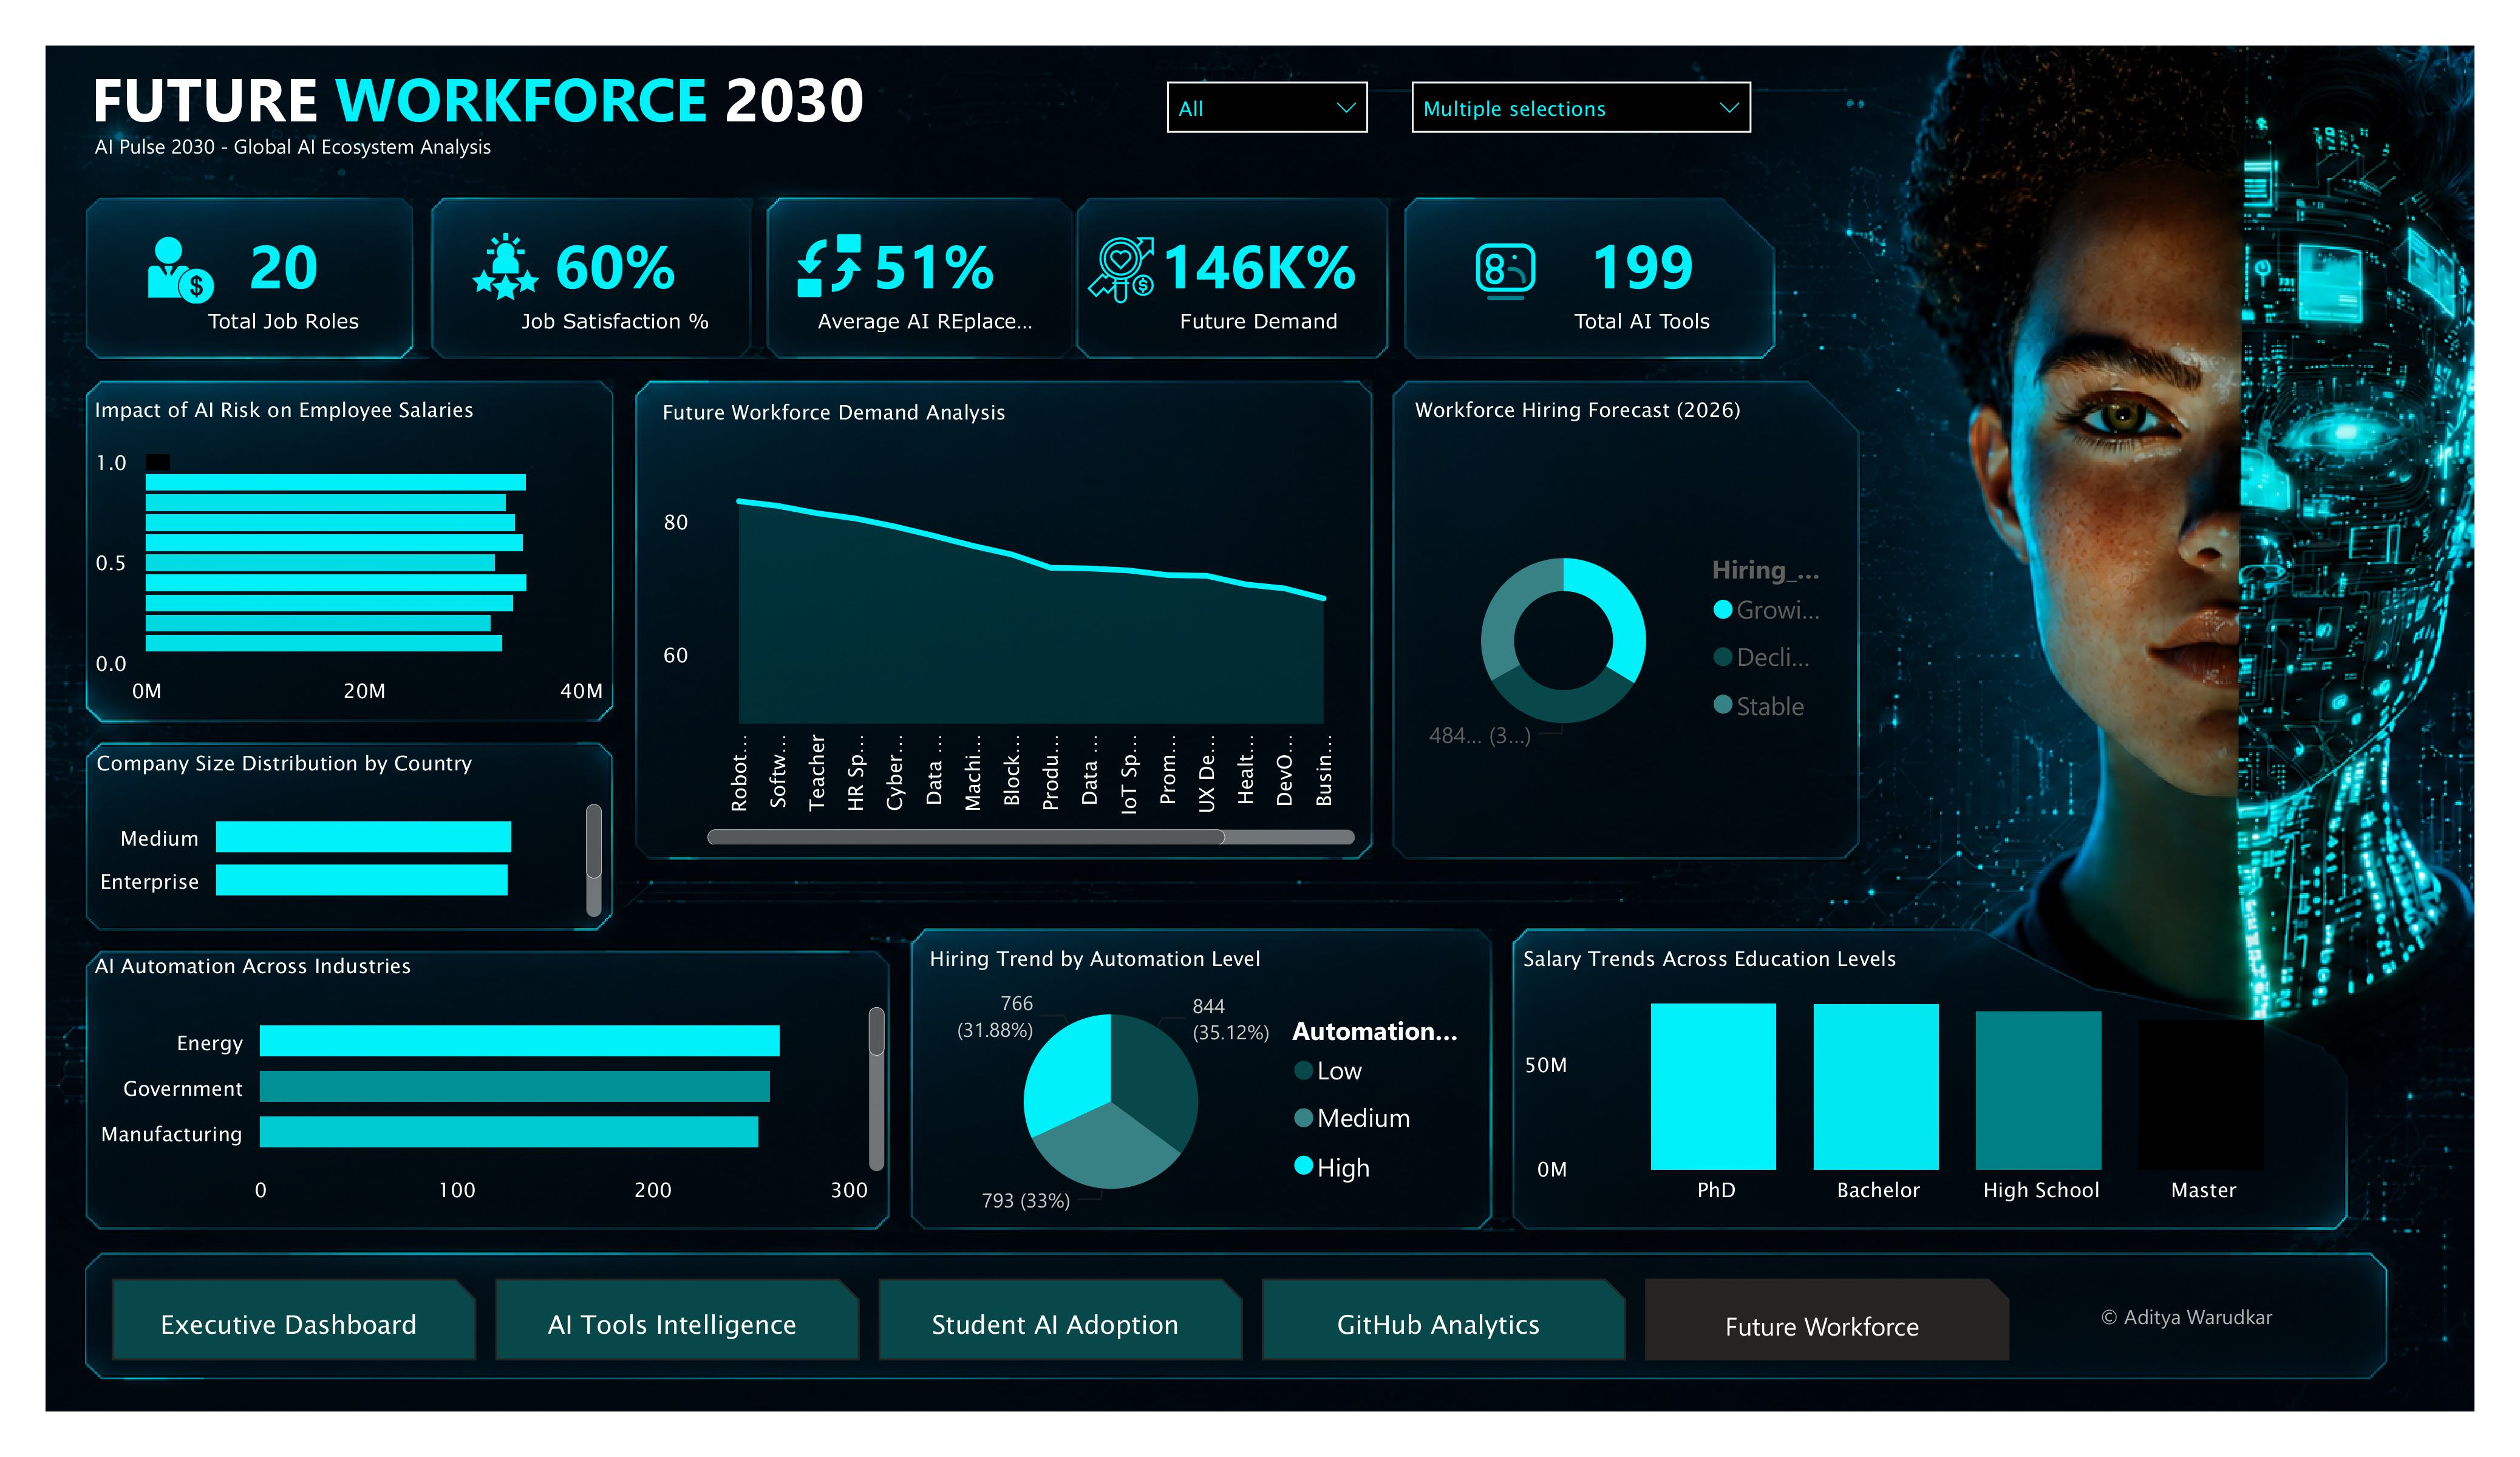

This screenshot's page, from the dashboard's own definition file:
{"tool":"powerbi","page":{"name":"Future Workforce","canvas":[1280,720],"ordinal":3},"visuals":[{"type":"textbox","box":[19,0,560,67],"z":0},{"type":"textbox","box":[20.7,38.2,558.3,28.6],"z":1000},{"type":"cardVisual","fields":{"Data":["JOB CLEANED DATA.Total Job Roles"]},"box":[58.9,77.9,133.6,89.1],"z":2000},{"type":"cardVisual","fields":{"Data":["JOB CLEANED DATA.Average Job Satisfaction"]},"box":[233.8,77.9,133.6,89.1],"z":3000},{"type":"cardVisual","fields":{"Data":["JOB CLEANED DATA.Average AI REplacement"]},"box":[402.4,77.9,133.6,89.1],"z":4000},{"type":"cardVisual","fields":{"Data":["JOB CLEANED DATA.Future Demand"]},"box":[572.6,77.9,133.6,89.1],"z":5000},{"type":"cardVisual","fields":{"Data":["TOOLS CLEANED DATA.Total AI Tools"]},"box":[774.6,77.9,133.6,89.1],"z":6000},{"type":"areaChart","title":"Future Workforce Demand Analysis","fields":{"Y":["Sum(JOB CLEANED DATA.Future_Demand_Score)"],"Category":["JOB CLEANED DATA.Job_Title"]},"box":[319.7,184.5,375.4,241.8],"z":7000},{"type":"barChart","title":"Impact of AI Risk on Employee Salaries","fields":{"Y":["Sum(JOB CLEANED DATA.Average_Salary_USD)"],"Category":["JOB CLEANED DATA.AI_Replacement_Risk"]},"box":[21.1,184.4,277.8,175.6],"z":8000},{"type":"donutChart","title":"Workforce Hiring Forecast (2026)","fields":{"Y":["Sum(JOB CLEANED DATA.Future_Demand_Score)"],"Category":["JOB CLEANED DATA.Hiring_Trend_2026"]},"box":[717.1,184.3,232.9,241.4],"z":9000},{"type":"barChart","title":"AI Automation Across Industries","fields":{"Category":["JOB CLEANED DATA.Industry"],"Y":["CountNonNull(JOB CLEANED DATA.Automation_Level)"]},"box":[21.4,477.1,425.7,145.7],"z":10000},{"type":"pieChart","title":"Hiring Trend by Automation Level","fields":{"Category":["JOB CLEANED DATA.Automation_Level"],"Y":["CountNonNull(JOB CLEANED DATA.Hiring_Trend_2026)"]},"box":[461.4,472.9,295.7,150],"z":11000},{"type":"columnChart","title":"Salary Trends Across Education Levels","fields":{"Category":["JOB CLEANED DATA.Education_Level"],"Y":["Sum(JOB CLEANED DATA.Average_Salary_USD)"]},"box":[774.3,472.9,437.1,150],"z":12000},{"type":"clusteredBarChart","title":"Company Size Distribution by Country","fields":{"Category":["JOB CLEANED DATA.Company_Size"],"Y":["CountNonNull(JOB CLEANED DATA.Country)"]},"box":[21.7,370,276.7,94.2],"z":13000},{"type":"pageNavigator","box":[35,650,1000,43.3],"z":14000},{"type":"image","box":[33.8,100.8,74.6,35.4],"z":15000},{"type":"image","box":[205.3,98.7,74.7,35.3],"z":16000},{"type":"image","box":[377.7,98.5,69.2,35.4],"z":17000},{"type":"image","box":[536.2,100.8,60,35.4],"z":18000},{"type":"image","box":[732.3,100.8,74.6,35.4],"z":19000},{"type":"textbox","box":[1078.3,655,150,38.3],"z":20000},{"type":"slicer","fields":{"Values":["JOB CLEANED DATA.Industry"]},"box":[581.4,8.6,125.7,50],"z":21000},{"type":"slicer","fields":{"Values":["JOB CLEANED DATA.Country"]},"box":[710,8.6,198.6,150],"z":22000}]}

Visuals, with their boxes on the page's 1280x720 design canvas (x1, y1, x2, y2). These are canvas units, not pixel positions in the 2520x1457 screenshot, which may show the page scaled, cropped or inside an application window:
textbox: bbox(19, 0, 579, 67)
textbox: bbox(21, 38, 579, 67)
cardVisual - JOB CLEANED DATA.Total Job Roles: bbox(59, 78, 192, 167)
cardVisual - JOB CLEANED DATA.Average Job Satisfaction: bbox(234, 78, 367, 167)
cardVisual - JOB CLEANED DATA.Average AI REplacement: bbox(402, 78, 536, 167)
cardVisual - JOB CLEANED DATA.Future Demand: bbox(573, 78, 706, 167)
cardVisual - TOOLS CLEANED DATA.Total AI Tools: bbox(775, 78, 908, 167)
"Future Workforce Demand Analysis" areaChart: bbox(320, 184, 695, 426)
"Impact of AI Risk on Employee Salaries" barChart: bbox(21, 184, 299, 360)
"Workforce Hiring Forecast (2026)" donutChart: bbox(717, 184, 950, 426)
"AI Automation Across Industries" barChart: bbox(21, 477, 447, 623)
"Hiring Trend by Automation Level" pieChart: bbox(461, 473, 757, 623)
"Salary Trends Across Education Levels" columnChart: bbox(774, 473, 1211, 623)
"Company Size Distribution by Country" clusteredBarChart: bbox(22, 370, 298, 464)
pageNavigator: bbox(35, 650, 1035, 693)
image: bbox(34, 101, 108, 136)
image: bbox(205, 99, 280, 134)
image: bbox(378, 98, 447, 134)
image: bbox(536, 101, 596, 136)
image: bbox(732, 101, 807, 136)
textbox: bbox(1078, 655, 1228, 693)
slicer - JOB CLEANED DATA.Industry: bbox(581, 9, 707, 59)
slicer - JOB CLEANED DATA.Country: bbox(710, 9, 909, 159)
